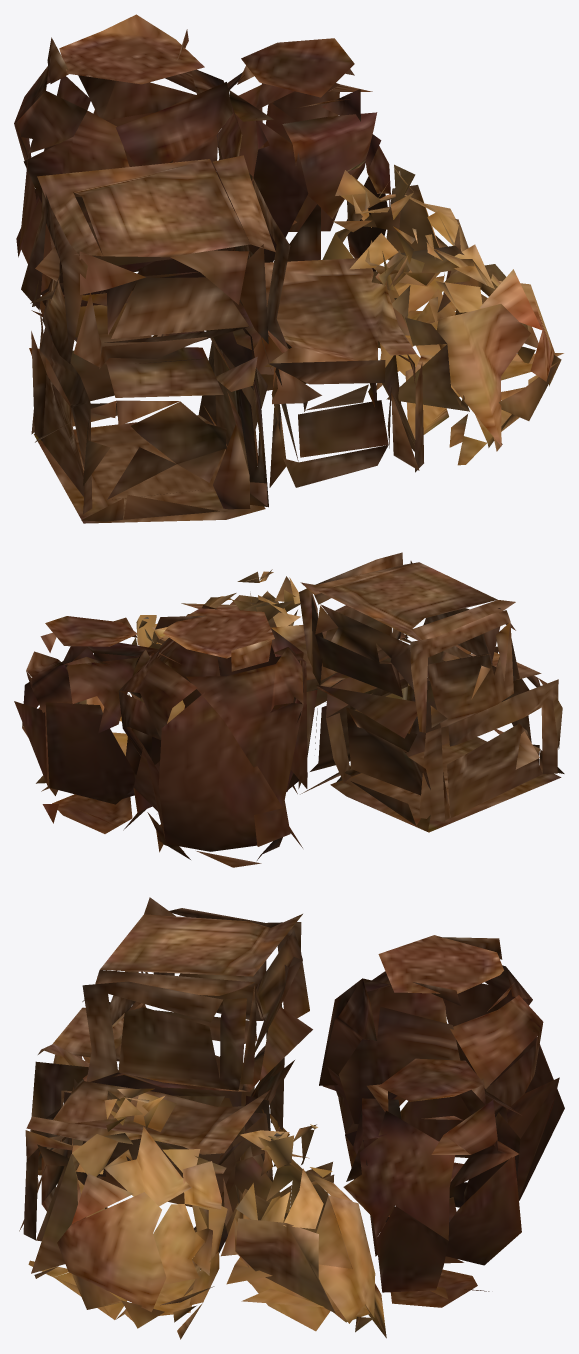
File: caixotes_lod2.glb
3 views of the same model, one above another, from view 1: azimuth 30°, elevation 25°; view 2: azimuth 150°, elevation 25°; view 3: azimuth 270°, elevation 25° (orthographic). The views are drawn at different scales.
Visible parts, largest first — view 1: caixotes; view 2: caixotes; view 3: caixotes.
Boxes of the visible parts, x1,y1,x2,y2 form: caixotes: [14, 14, 563, 523]; caixotes: [14, 552, 564, 867]; caixotes: [19, 897, 564, 1339].
Bounding box in the file's own units: 3.01 × 1.53 × 2.88.
1 material, 1 textured.
